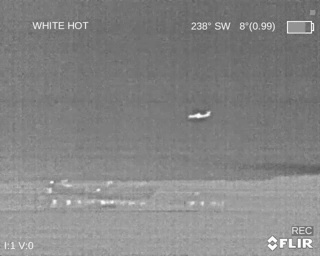AIRPLANE: (187, 110, 211, 119)
